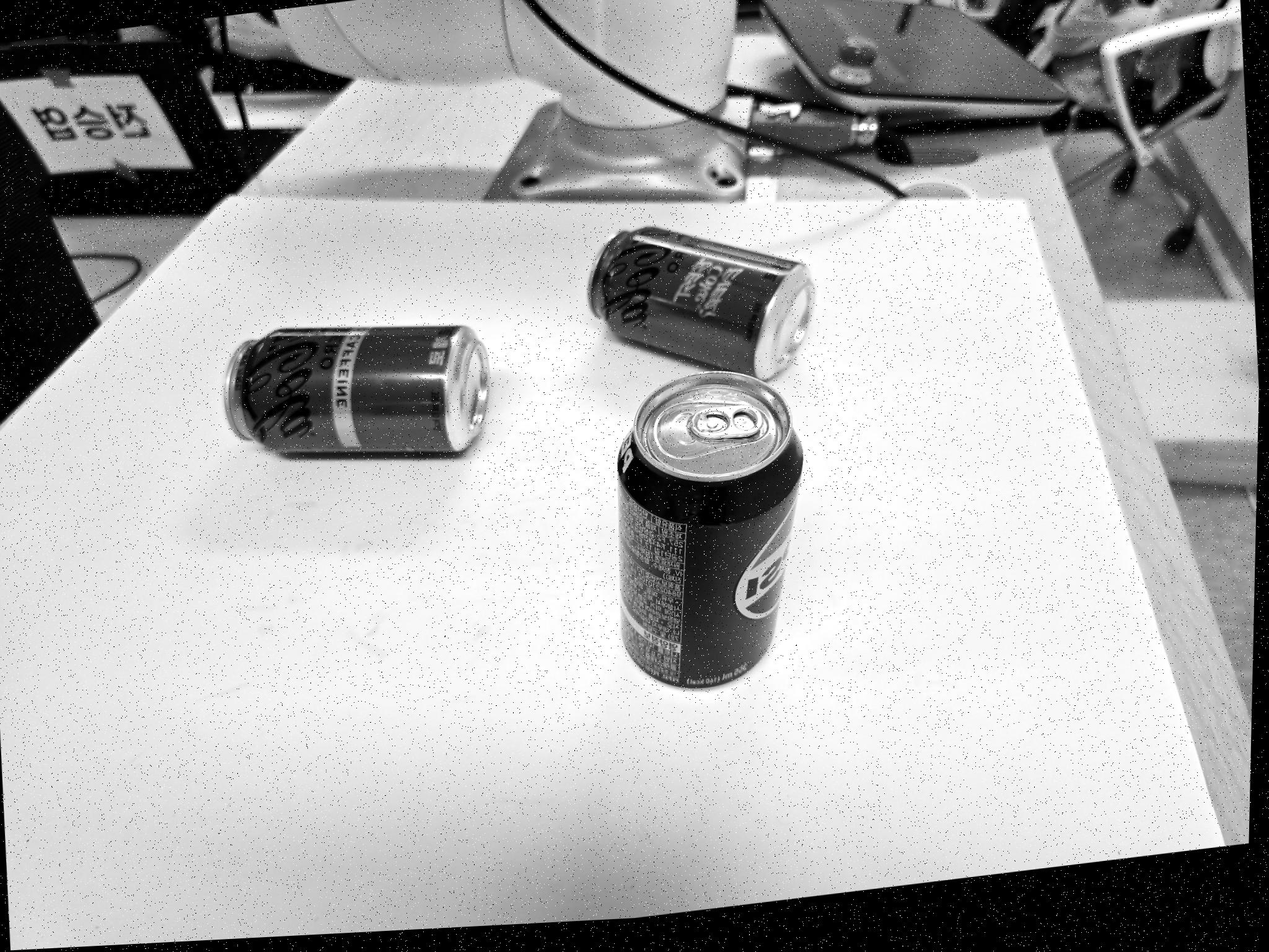can_coke_decaf: (225, 325, 490, 452)
can_coke_zero: (589, 227, 814, 379)
can_pepsi: (617, 372, 803, 687)
